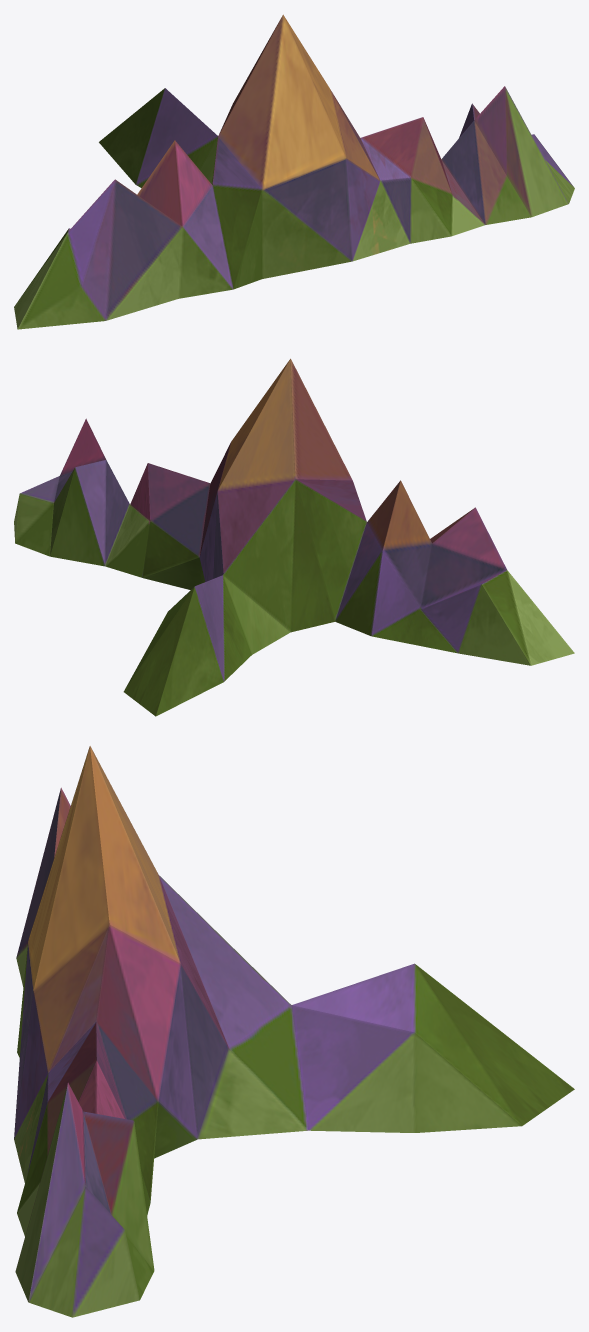
The model's file is wall_t_cap_deco.fbx.
3 renders of one model, top to bottom at view 1: azimuth 30°, elevation 25°; view 2: azimuth 150°, elevation 25°; view 3: azimuth 270°, elevation 25°, orthographic. The views are drawn at different scales.
Visible parts, largest first — view 1: wall_t_cap_deco; view 2: wall_t_cap_deco; view 3: wall_t_cap_deco.
Part boxes in pixels (<box>): wall_t_cap_deco: <box>14,14,574,329</box>; wall_t_cap_deco: <box>14,358,574,716</box>; wall_t_cap_deco: <box>14,746,574,1317</box>.
Bounding box in the file's own units: 6.56 × 2.67 × 3.75.
